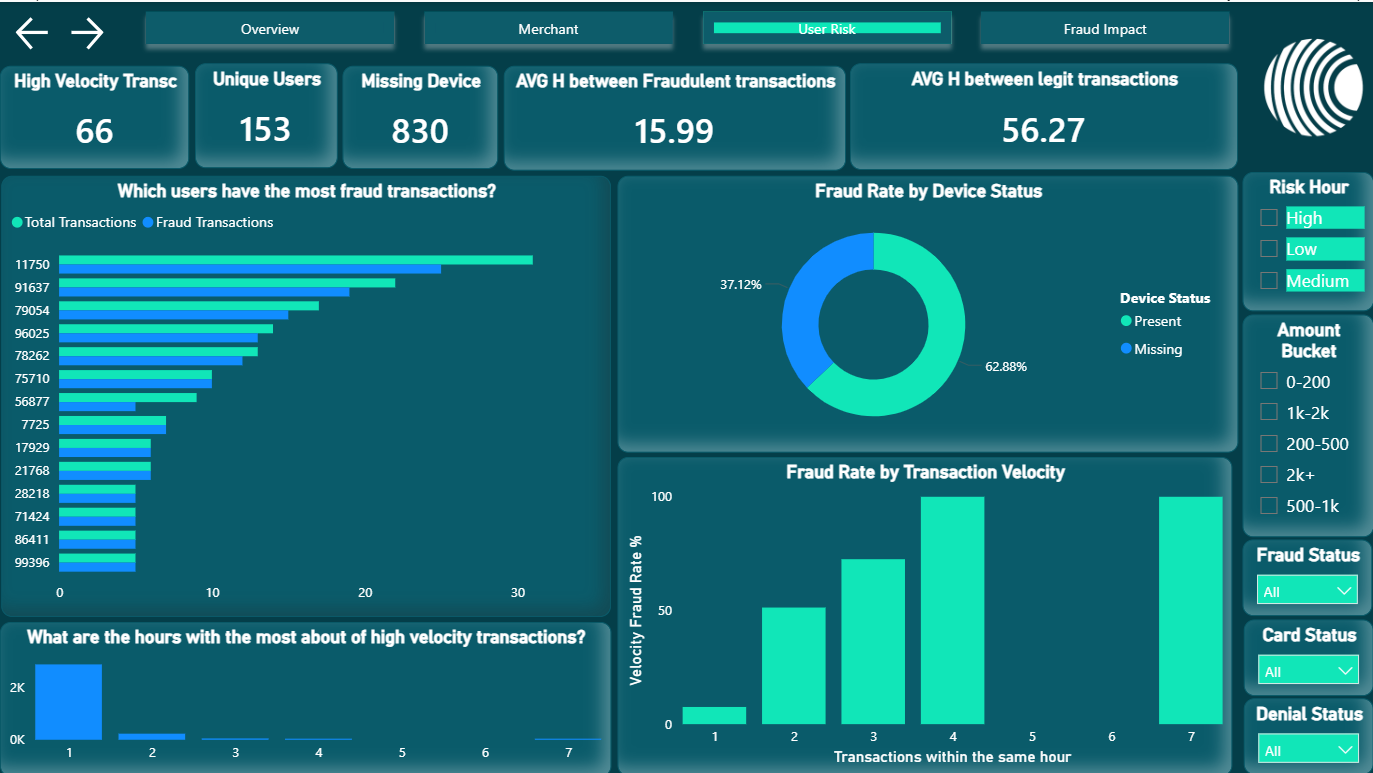

The dashboard page shown, as its layout file describes it:
{"tool":"powerbi","page":{"name":"User Risk","canvas":[1280,720],"ordinal":2},"visuals":[{"type":"cardVisual","title":"High Velocity Transc","fields":{"Data":["_Measures.High Velocity Transactions"]},"box":[0,58.8,176.2,96.2],"z":0},{"type":"cardVisual","title":"Missing Device","fields":{"Data":["_Measures.Missing Device Count"]},"box":[318.8,58.8,145,96.2],"z":1000},{"type":"clusteredBarChart","title":"Which users have the most fraud transactions?","fields":{"Y":["_Measures.Total Transactions","_Measures.Fraud Transactions"],"Category":["vw_fraud_users.user_id"]},"box":[1.2,161.2,567.5,410],"z":2000},{"type":"columnChart","title":"What are the hours with the most about of high velocity transactions?","fields":{"Y":["CountNonNull(vw_user_velocity.transactions_in_the_same_hour)"],"Category":["vw_user_velocity.transactions_in_the_same_hour"]},"box":[0,576.2,568.8,143.8],"z":3000},{"type":"donutChart","title":"Fraud Rate by Device Status","fields":{"Y":["_Measures.Fraud Rate %"],"Category":["transactional-sample.Device Status"]},"box":[574.1,161.1,577.7,258],"z":4000},{"type":"columnChart","title":"Fraud Rate by Transaction Velocity","fields":{"Category":["vw_user_velocity.transactions_in_the_same_hour"],"Y":["_Measures.Velocity Fraud Rate %"]},"box":[569.3,422.7,577.7,296.7],"z":5000},{"type":"cardVisual","title":"AVG H between Fraudulent transactions","fields":{"Data":["_Measures.Avg Mins Between Fraud Txns"]},"box":[468.8,58.8,318.8,97.5],"z":6000},{"type":"cardVisual","title":"AVG H between legit transactions","fields":{"Data":["_Measures.Avg Mins Between Legit Txns"]},"box":[790.9,56.9,360.9,99.3],"z":7000},{"type":"image","box":[1167.5,0,108.8,156.2],"z":8000},{"type":"actionButton","box":[60,8.8,47.5,40],"z":9000},{"type":"actionButton","box":[10,8.8,50,40],"z":10000},{"type":"pageNavigator","box":[127.2,0,1029.5,48.4],"z":11000},{"type":"cardVisual","title":"Unique Users","fields":{"Data":["Count(vw_fraud_users.user_id)"]},"box":[181.2,57.5,132.5,97.5],"z":12000},{"type":"slicer","title":"Risk Hour","fields":{"Values":["transactional-sample.Risk_hour"]},"box":[1155.5,158.7,122.3,129.6],"z":13000},{"type":"slicer","title":"Amount Bucket","fields":{"Values":["transactional-sample.amount_bucket"]},"box":[1155.5,290.5,122.3,207.1],"z":14000},{"type":"slicer","title":"Fraud Status","fields":{"Values":["transactional-sample.Fraud Status"]},"box":[1155.5,500,121.1,71.5],"z":15000},{"type":"slicer","title":"Card Status","fields":{"Values":["transactional-sample.Card Shared Status"]},"box":[1156.7,573.9,121.1,71.5],"z":16000},{"type":"slicer","title":"Denial Status","fields":{"Values":["transactional-sample.Denial Status"]},"box":[1156.7,648,121.1,71.5],"z":17000}]}

Visuals, with their boxes in screenshot pixels (x1, y1, x2, y2), scaled from the page's 1280x720 canvas onto the 1373x773 screenshot:
"High Velocity Transc" cardVisual: 0,63,189,166
"Missing Device" cardVisual: 342,63,497,166
"Which users have the most fraud transactions?" clusteredBarChart: 1,173,610,613
"What are the hours with the most about of high velocity transactions?" columnChart: 0,619,610,772
"Fraud Rate by Device Status" donutChart: 616,173,1235,450
"Fraud Rate by Transaction Velocity" columnChart: 611,454,1230,772
"AVG H between Fraudulent transactions" cardVisual: 503,63,845,168
"AVG H between legit transactions" cardVisual: 848,61,1235,168
image: 1252,0,1369,168
actionButton: 64,9,115,52
actionButton: 11,9,64,52
pageNavigator: 136,0,1241,52
"Unique Users" cardVisual: 194,62,336,166
"Risk Hour" slicer: 1239,170,1371,310
"Amount Bucket" slicer: 1239,312,1371,534
"Fraud Status" slicer: 1239,537,1369,614
"Card Status" slicer: 1241,616,1371,693
"Denial Status" slicer: 1241,696,1371,772
